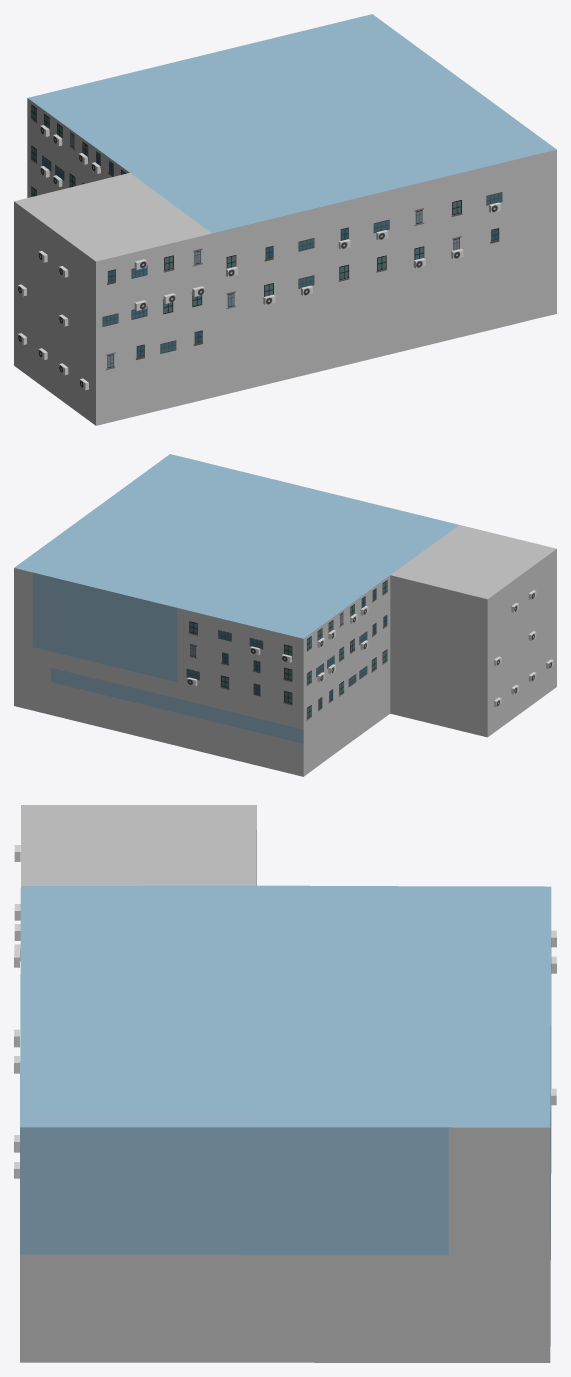
The model's file is 111StationFix05.fbx.
3 views of the same model, one above another, from view 1: azimuth 30°, elevation 25°; view 2: azimuth 150°, elevation 25°; view 3: azimuth 270°, elevation 25° (orthographic). The views are drawn at different scales.
Parts seen in each view (by area): view 1: Cube.466; view 2: Cube.466; view 3: Cube.466.
Part boxes in pixels (box(x1,y1,x2,y2)): Cube.466: box(14, 14, 556, 425); Cube.466: box(14, 454, 556, 776); Cube.466: box(14, 805, 556, 1362).
Size of the model in its own units: 49.9 by 16.92 by 35.25.
